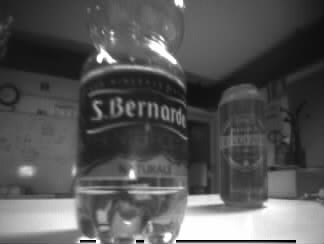Bottle: (79, 1, 188, 244)
Tin can: (217, 85, 269, 206)
